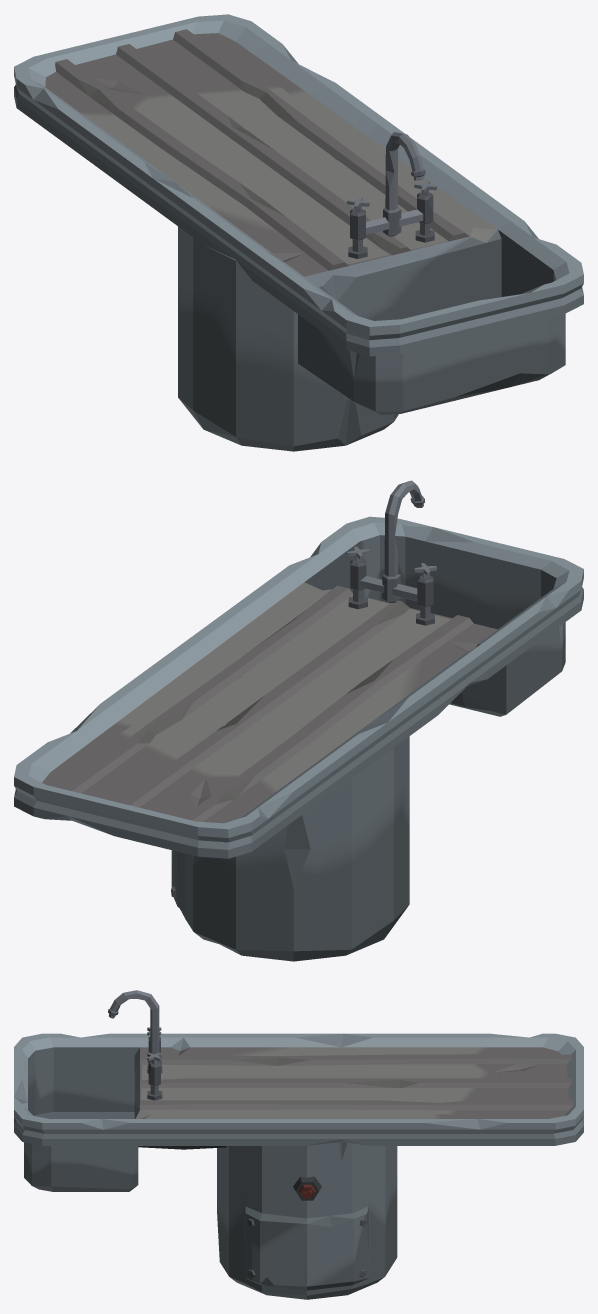
Rendered from SM_Prop_Surgical_Table_01.fbx.
The picture shows the model from 3 angles, top to bottom: view 1: azimuth 30°, elevation 25°; view 2: azimuth 150°, elevation 25°; view 3: azimuth 270°, elevation 25°; orthographic projection. The views are drawn at different scales.
Parts seen in each view (by area): view 1: SM_Prop_Surgical_Table_01; view 2: SM_Prop_Surgical_Table_01; view 3: SM_Prop_Surgical_Table_01.
Part boxes in pixels (x1=…): SM_Prop_Surgical_Table_01: x1=14, y1=14, x2=583, y2=451; SM_Prop_Surgical_Table_01: x1=14, y1=480, x2=583, y2=961; SM_Prop_Surgical_Table_01: x1=14, y1=990, x2=583, y2=1299.
Size of the model in its own units: 99.21 by 143 by 268.
